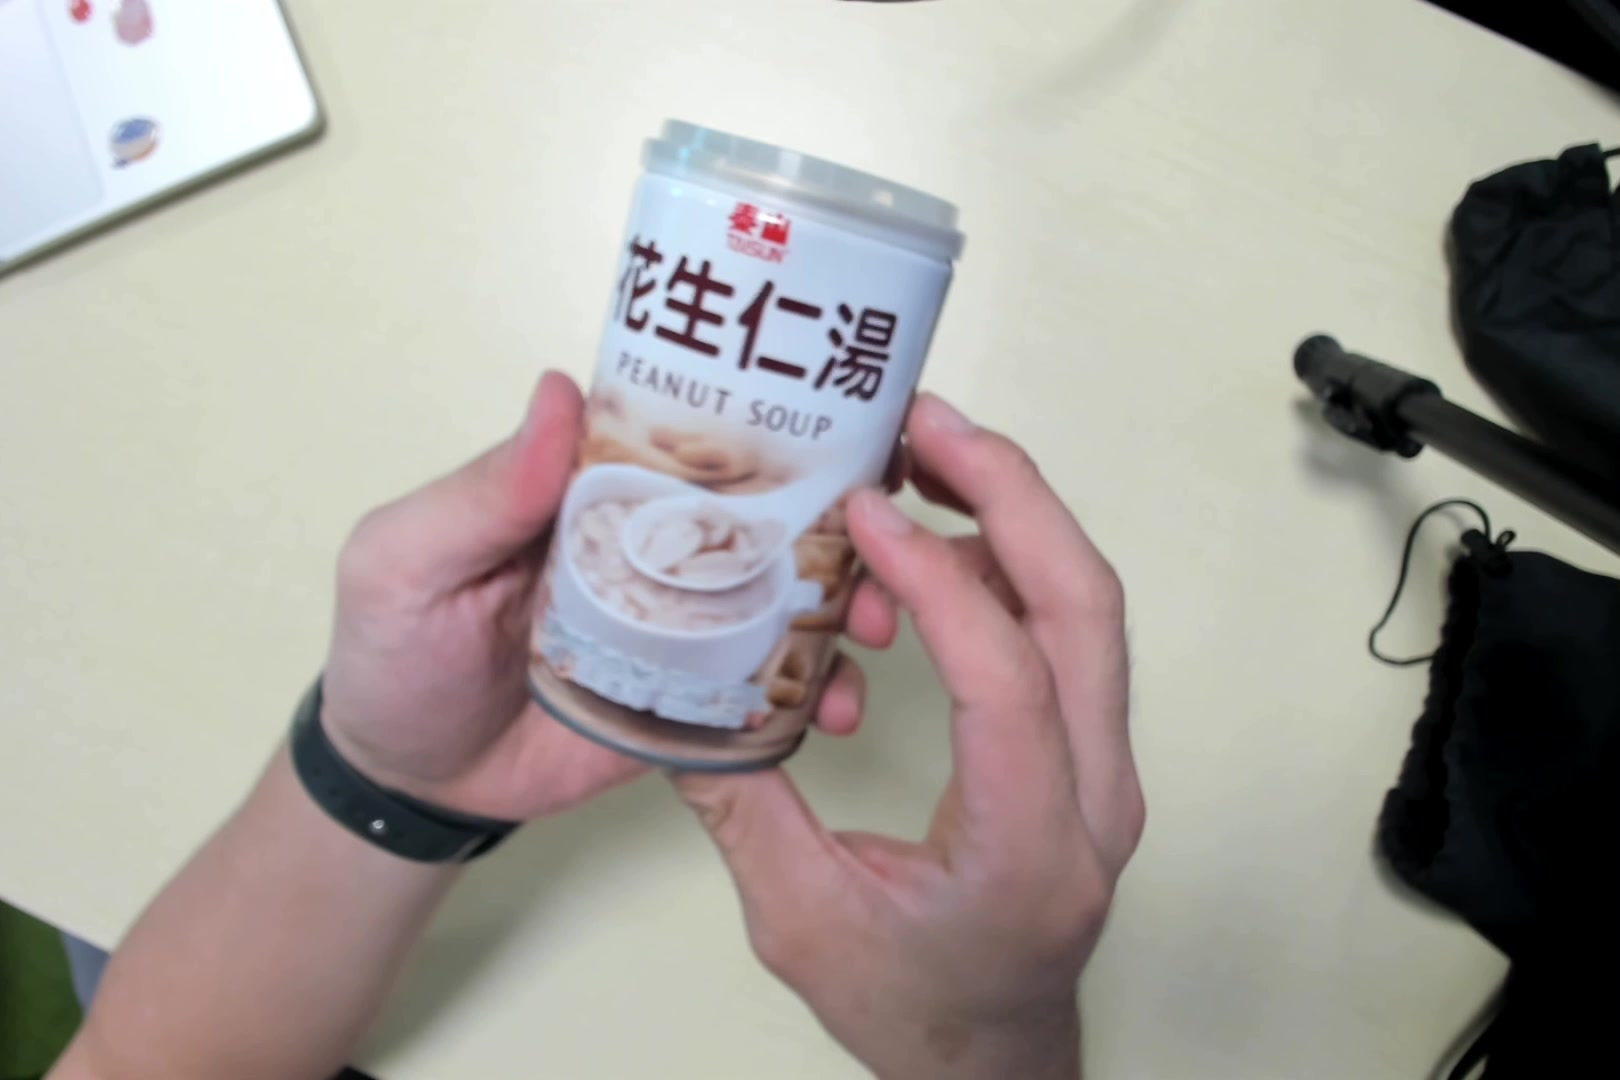InstantMeals_300-399g_NonHalal_NonHealthy: (530, 124, 964, 785)
